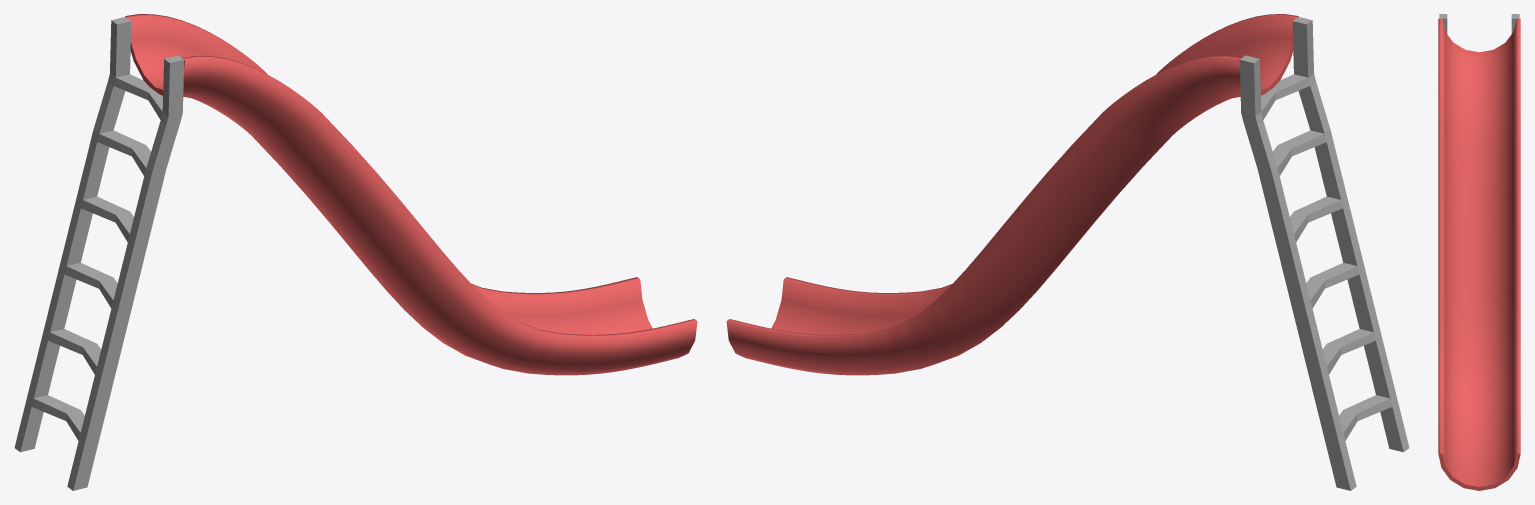
Rendered from slide.fbx.
3 views of the same model, side by side, from view 1: azimuth 30°, elevation 25°; view 2: azimuth 150°, elevation 25°; view 3: azimuth 270°, elevation 25° (orthographic). The views are drawn at different scales.
Parts seen in each view (by area): view 1: BezierCurve.001; view 2: BezierCurve.001; view 3: BezierCurve.001.
Part boxes in pixels (<box>): BezierCurve.001: <box>14,14,697,490</box>; BezierCurve.001: <box>726,14,1409,490</box>; BezierCurve.001: <box>1438,14,1520,490</box>.
Bounding box in the file's own units: 276 × 186 × 46.2.
